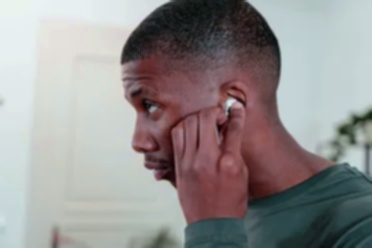earphone: (215, 81, 251, 125)
